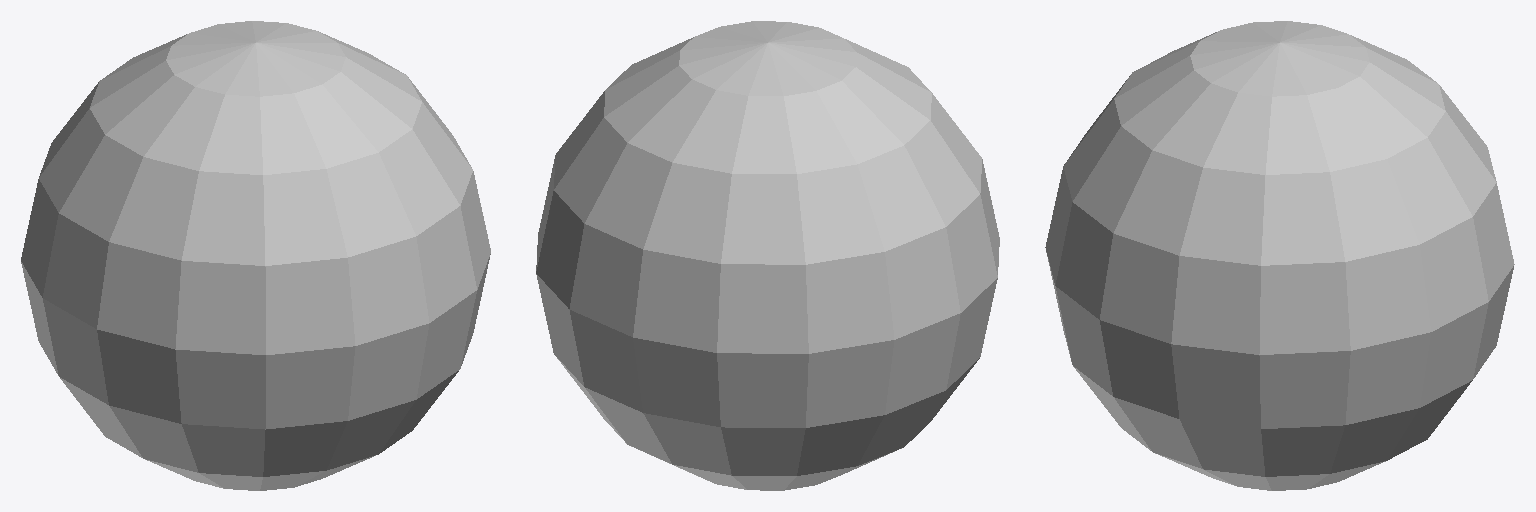
The model's file is Slice of cake.obj.
The picture shows the model from 3 angles: view 1: azimuth 30°, elevation 25°; view 2: azimuth 150°, elevation 25°; view 3: azimuth 270°, elevation 25°; orthographic projection.
Parts seen in each view (by area): view 1: Sphere001; view 2: Sphere001; view 3: Sphere001.
Boxes of the visible parts, x1,y1,x2,y2 form: Sphere001: [21, 21, 490, 490]; Sphere001: [536, 21, 999, 490]; Sphere001: [1045, 21, 1514, 490].
Bounding box in the file's own units: 19175 × 19248 × 19175.